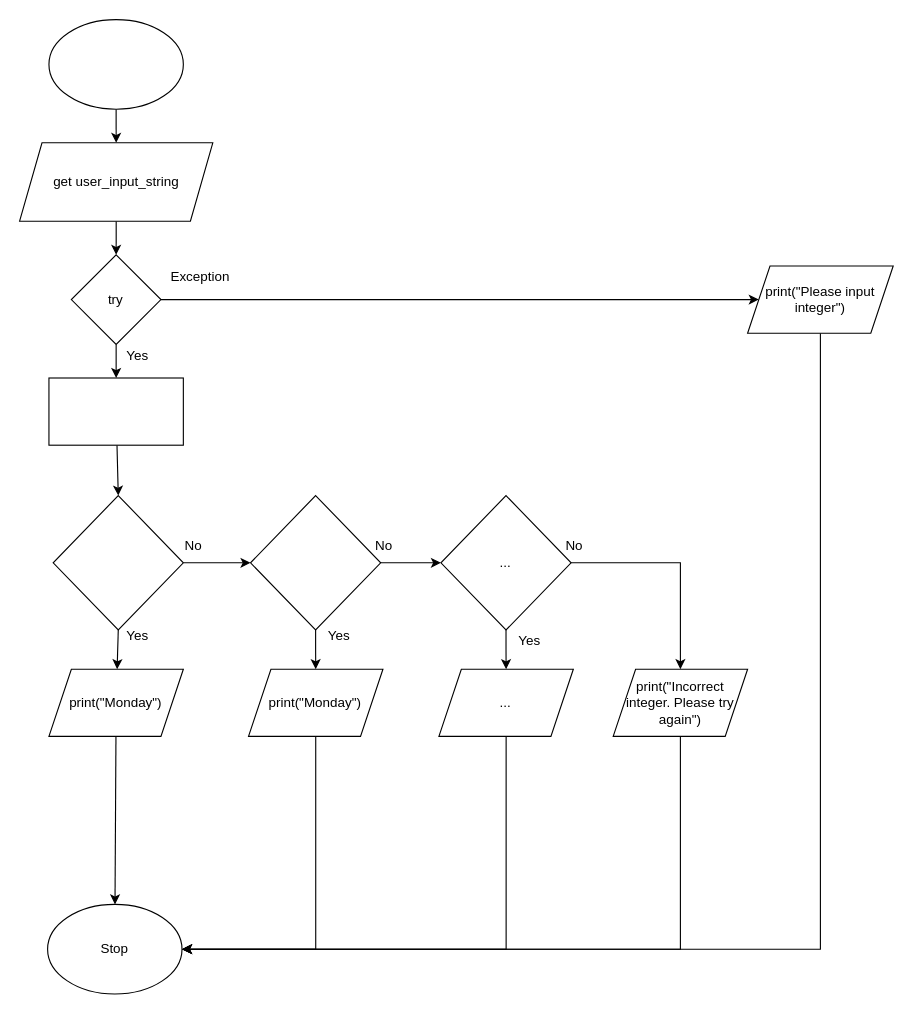
Some shapes in this 913 by 1014 pixel diagram are drawn without their labels. Here are the shapes that lost their labels. From the top down, the box of each, then its label:
(48, 18, 183, 109): Start
(48, 377, 183, 445): convert string to int
(52, 494, 183, 630): if user_input == 1
(249, 494, 381, 630): if user_input == 2
